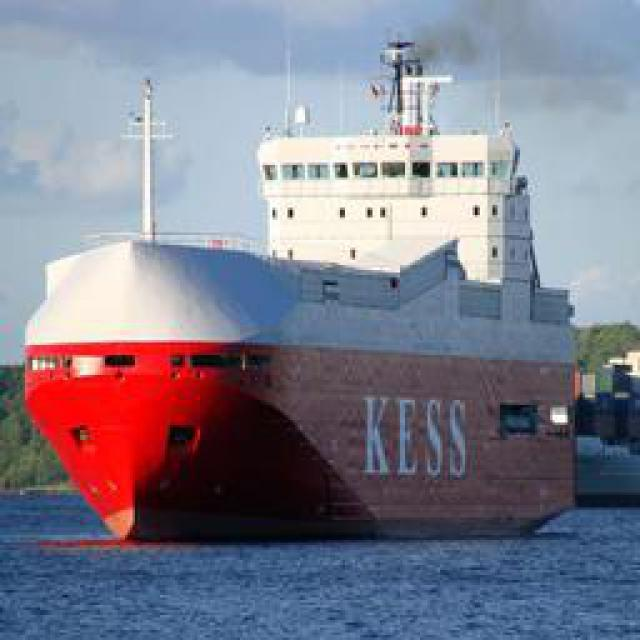Ship: (25, 6, 585, 549)
